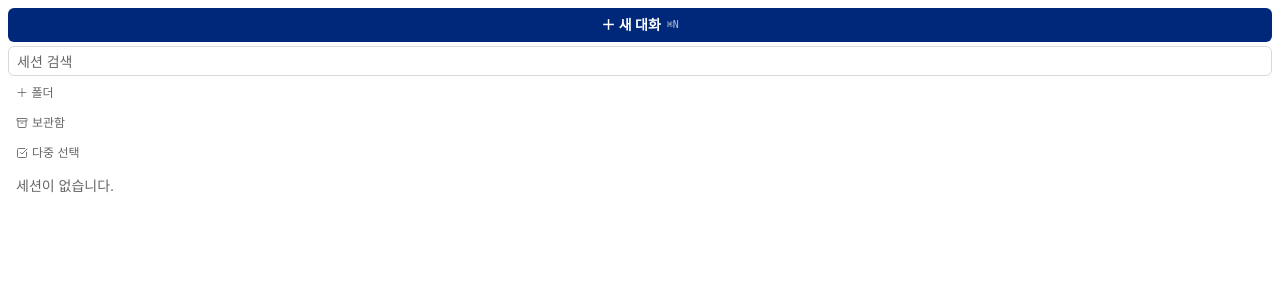
Scenario: SessionList › 검색어 입력 시 서버 내용검색 결과를 스니펫과 함께 렌더한다
expect the text "세션이 없습니다." is shown: met, box [16,177,114,194]
Type "예산" into the search field with test id "session-search-input" at x=640, y=61, box [8,46,1272,76]
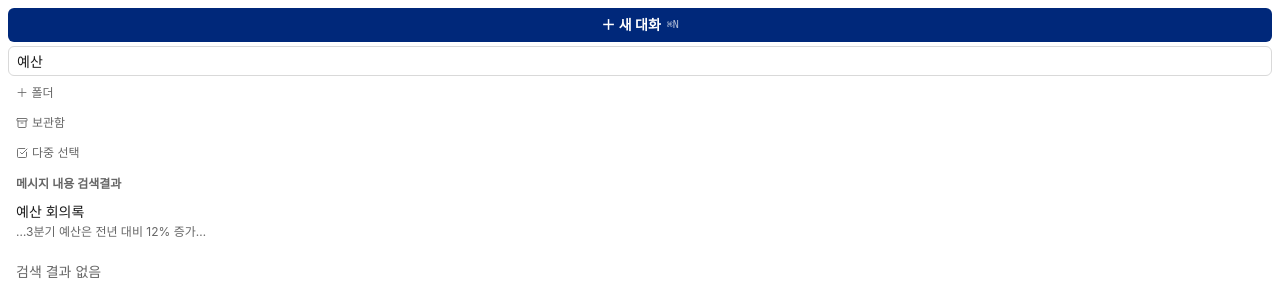
expect the text "예산 회의록" is shown: met, box [16,203,84,220]
expect the text "…3분기 예산은 전년 대비 12% 증가…" is shown: met, box [16,224,206,239]
